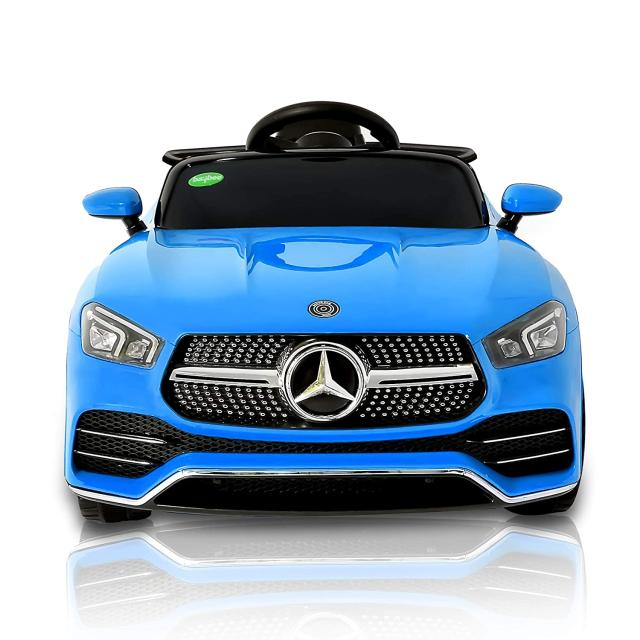Car: (63, 100, 586, 524)
